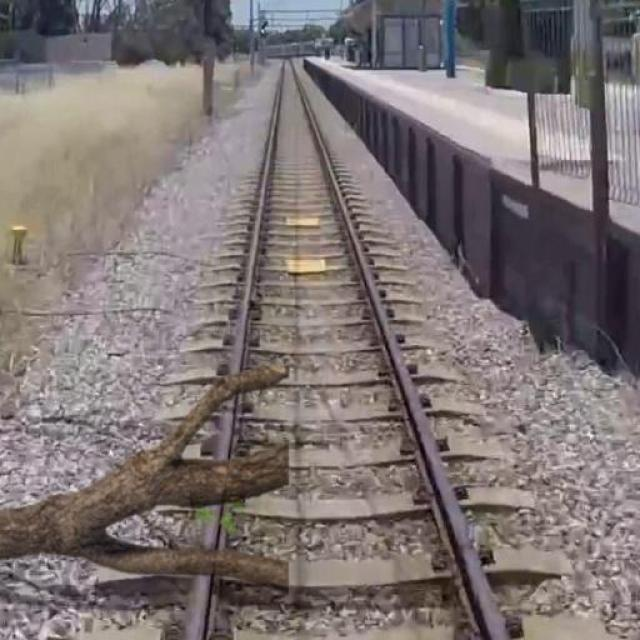Branches: (160, 372, 310, 609)
